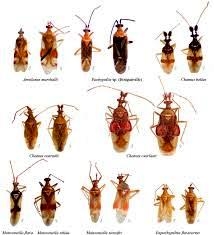Helopeltis-insect: (151, 89, 182, 157), (107, 92, 139, 154), (36, 20, 63, 74), (48, 101, 76, 152), (154, 29, 184, 75), (8, 22, 33, 76), (108, 22, 134, 73), (111, 172, 135, 223), (37, 176, 61, 226), (19, 100, 42, 150), (84, 173, 104, 223), (153, 182, 176, 225), (78, 27, 99, 74), (187, 24, 205, 72), (8, 181, 25, 227), (186, 185, 199, 224)
